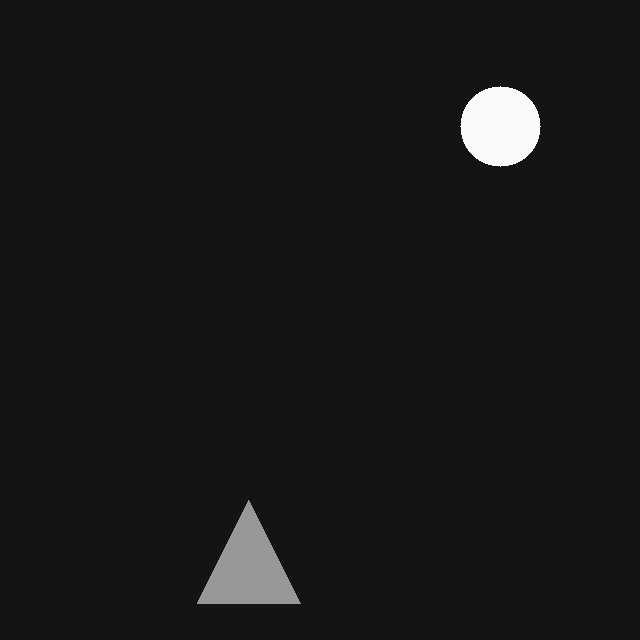circle: (460, 86, 540, 166)
triangle: (197, 500, 300, 603)
